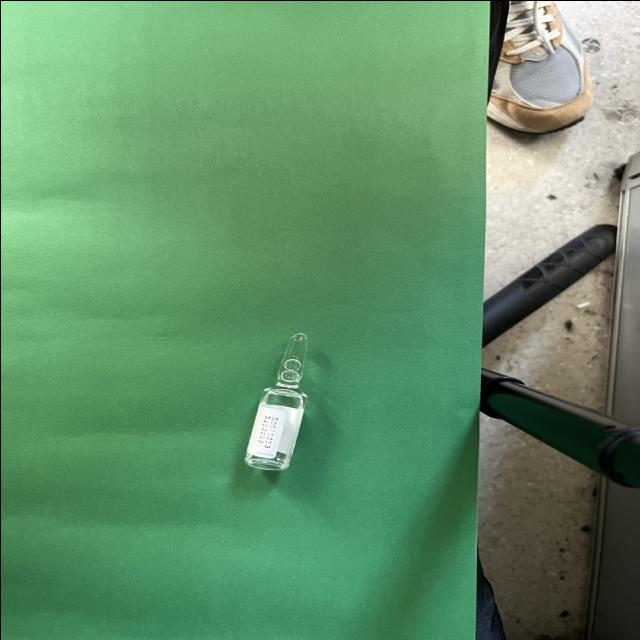Ampoules: (243, 332, 307, 470)
